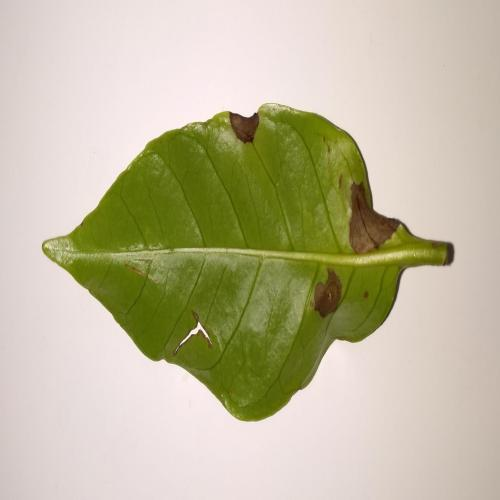miner: (229, 112, 259, 143)
